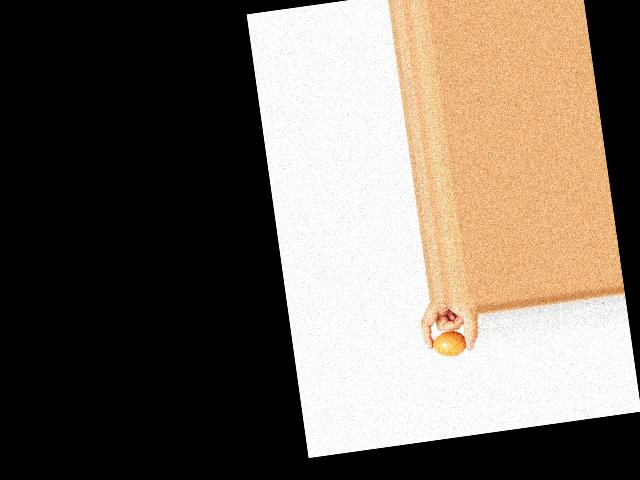egg: (430, 329, 467, 359)
